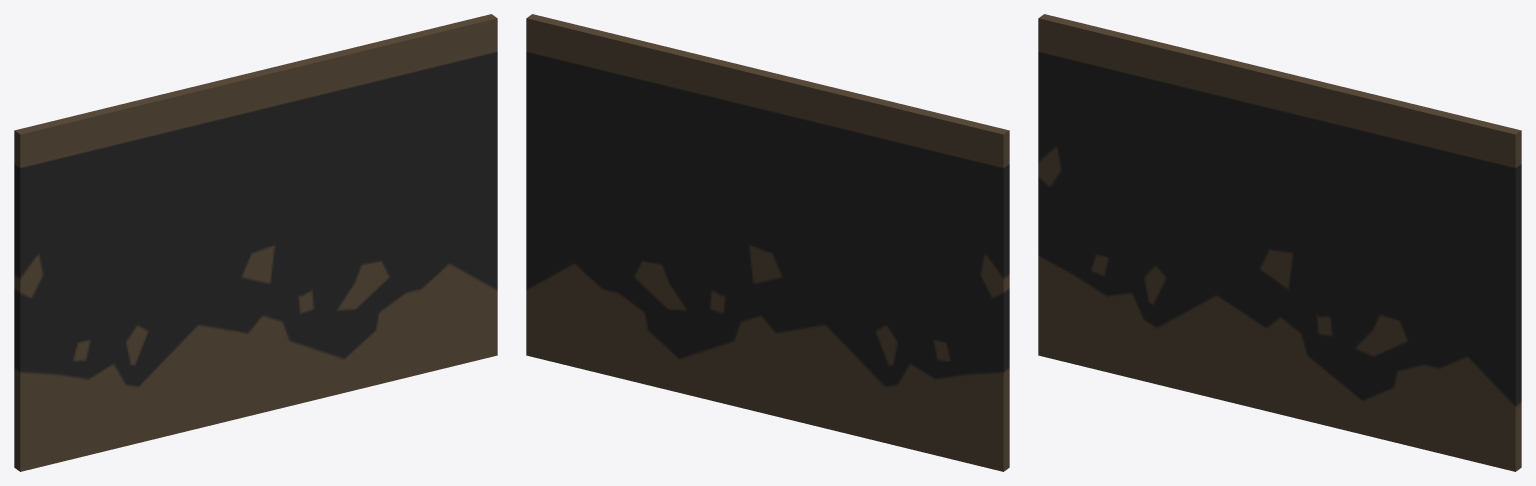
File: SM_Prop_Flag_03.fbx
3 renders of one model, left to right at view 1: azimuth 30°, elevation 25°; view 2: azimuth 150°, elevation 25°; view 3: azimuth 330°, elevation 25°, orthographic.
Visible parts, largest first — view 1: SM_Prop_Flag_03; view 2: SM_Prop_Flag_03; view 3: SM_Prop_Flag_03.
Part boxes in pixels (x1=…): SM_Prop_Flag_03: x1=14, y1=14, x2=497, y2=471; SM_Prop_Flag_03: x1=526, y1=14, x2=1009, y2=471; SM_Prop_Flag_03: x1=1038, y1=14, x2=1521, y2=471.
Size of the model in its own units: 165 by 111 by 3.49.
